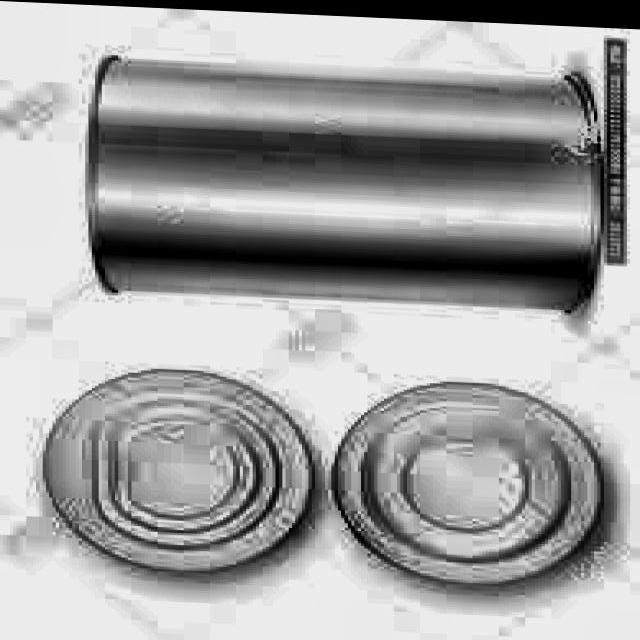Aluminum Can: (81, 42, 614, 326), (326, 358, 618, 598), (30, 352, 320, 582)
